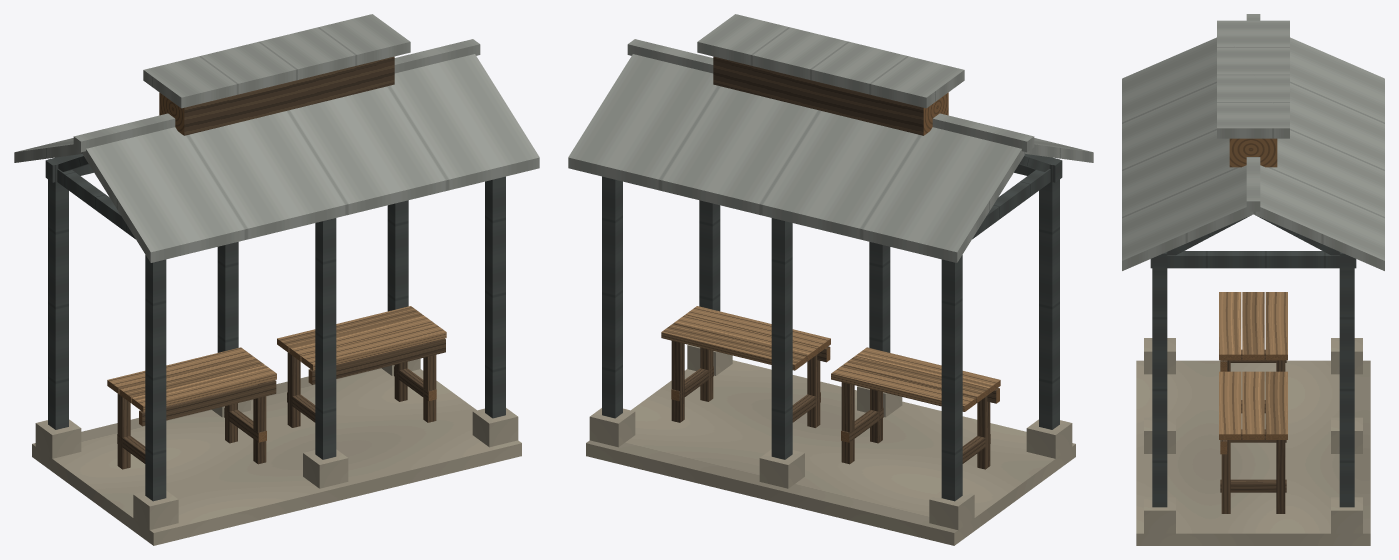
3 renders of one model, left to right at view 1: azimuth 30°, elevation 25°; view 2: azimuth 150°, elevation 25°; view 3: azimuth 270°, elevation 25°, orthographic. The views are drawn at different scales.
Visible parts, largest first — view 1: kinshasa; view 2: kinshasa; view 3: kinshasa.
Boxes of the visible parts, bbox=[...] form: kinshasa: bbox=[14, 14, 539, 545]; kinshasa: bbox=[568, 14, 1093, 545]; kinshasa: bbox=[1122, 14, 1384, 545].
Size of the model in its own units: 2.61 by 2.5 by 1.55.
1 material, 1 textured.
